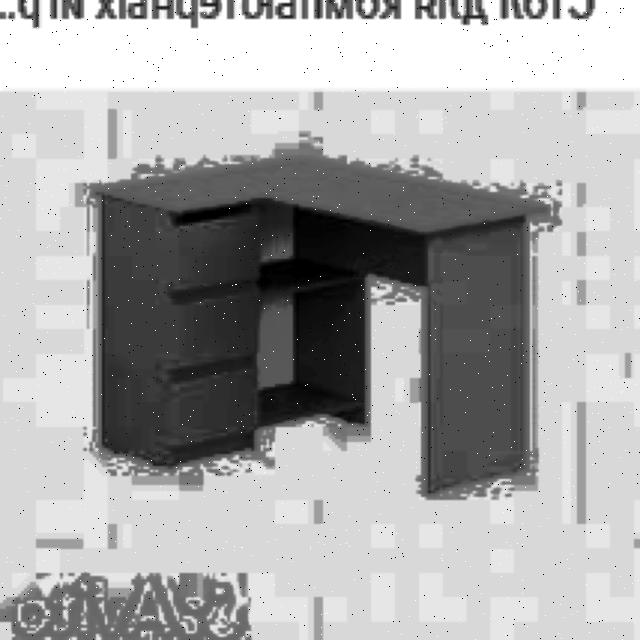table: (93, 152, 550, 494)
